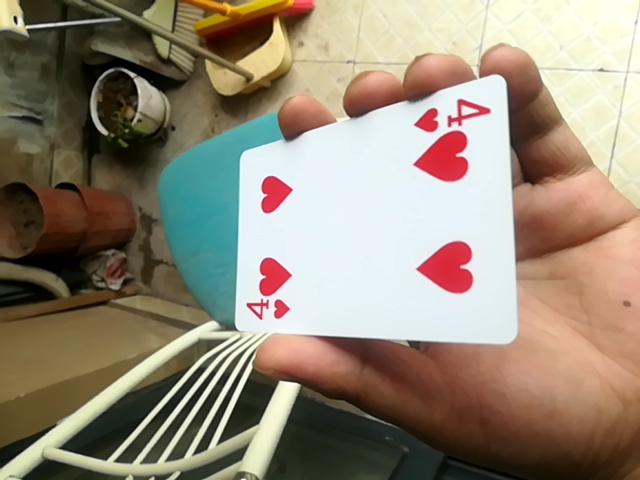hx 4: (231, 72, 516, 346)
